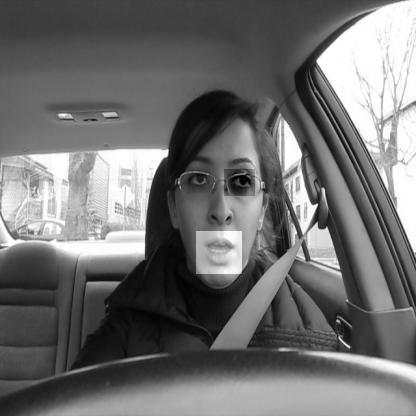seatbelt: (134, 78, 302, 416)
